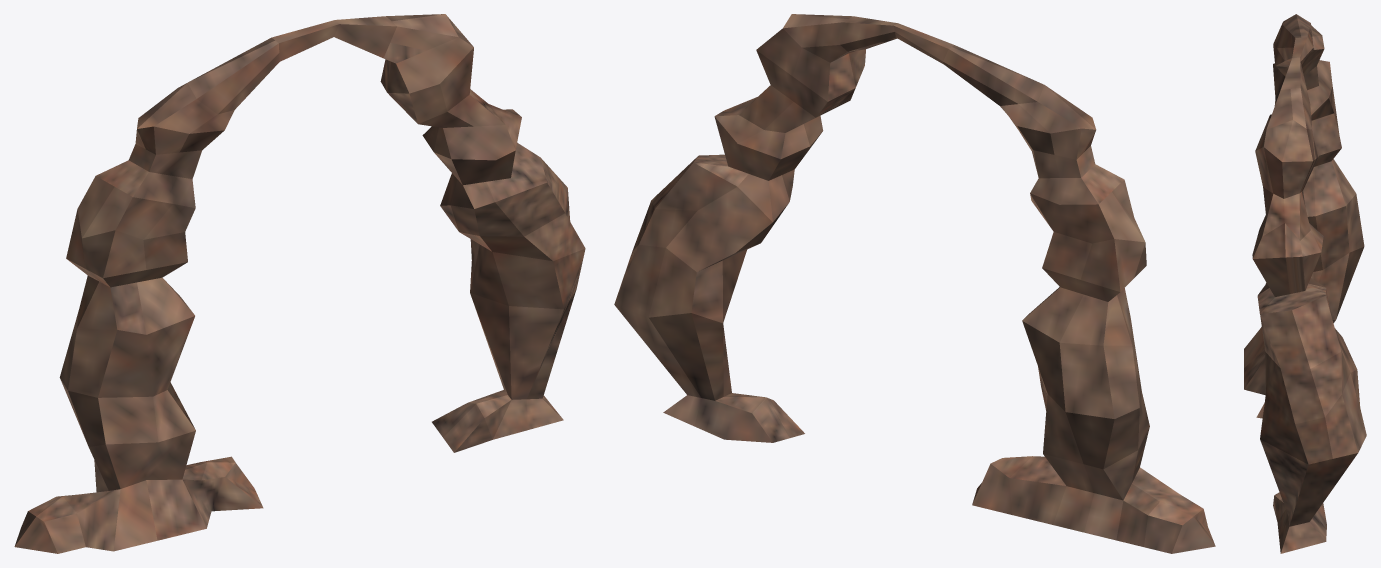
File: archway.glb
The picture shows the model from 3 angles, left to right: view 1: azimuth 30°, elevation 25°; view 2: azimuth 150°, elevation 25°; view 3: azimuth 270°, elevation 25°; orthographic projection. The views are drawn at different scales.
Parts seen in each view (by area): view 1: Cube; view 2: Cube; view 3: Cube.
Part boxes in pixels (x1,y1,x2,y2): Cube: [14, 14, 585, 553]; Cube: [614, 14, 1215, 553]; Cube: [1244, 14, 1366, 553].
Size of the model in its own units: 17.95 by 13.42 by 3.71.
Materials: 1 (1 with a texture image).
